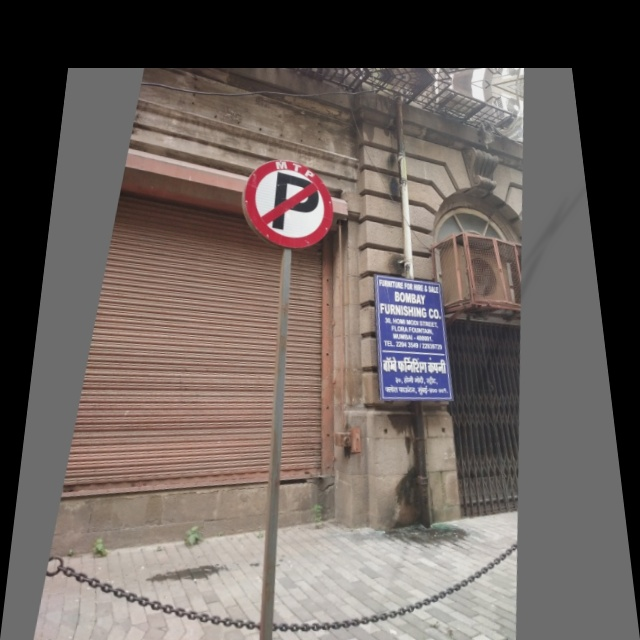No_Parking: (235, 152, 342, 253)
